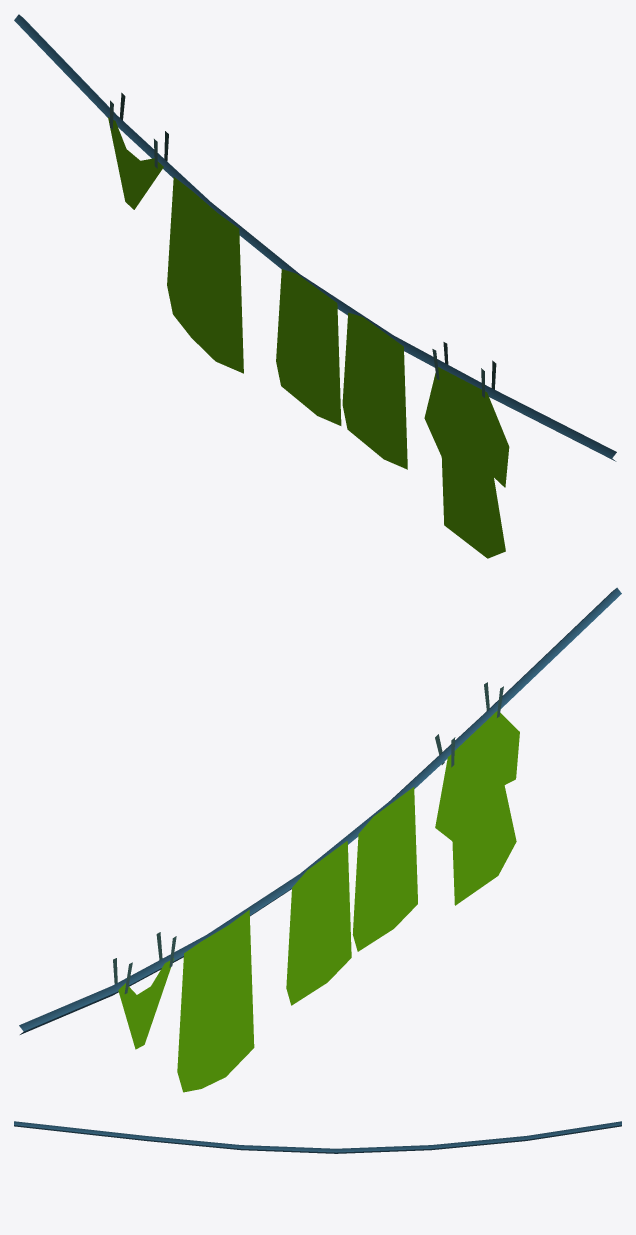
Rendered from ClothesLine01Night.glb.
3 renders of one model, top to bottom at view 1: azimuth 30°, elevation 25°; view 2: azimuth 150°, elevation 25°; view 3: azimuth 270°, elevation 25°, orthographic. The views are drawn at different scales.
Visible parts, largest first — view 1: ClothesLine01Night; view 2: ClothesLine01Night; view 3: ClothesLine01Night.
Part boxes in pixels (bbox=[...]): ClothesLine01Night: bbox=[14, 14, 616, 558]; ClothesLine01Night: bbox=[19, 587, 621, 1092]; ClothesLine01Night: bbox=[14, 1121, 621, 1153].
Size of the model in its own units: 0.1438 by 1.9 by 10.39.
Materials: 2 (1 with a texture image).
